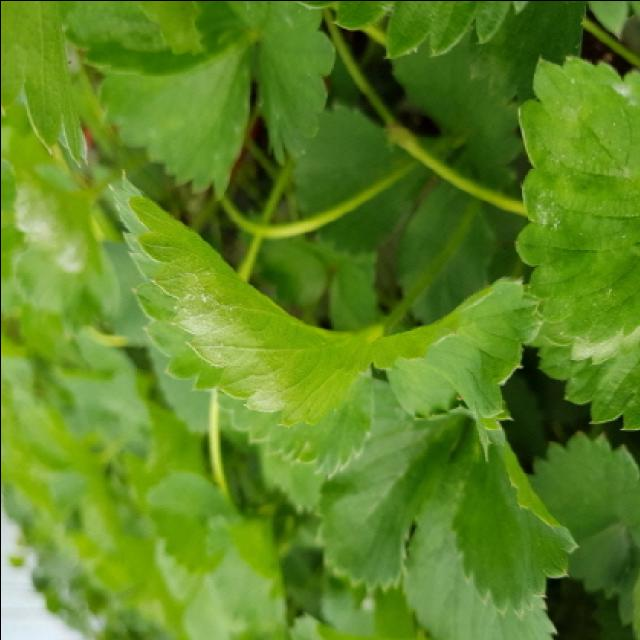Powdery Mildew Leaf: (108, 169, 381, 429), (512, 52, 640, 366)
